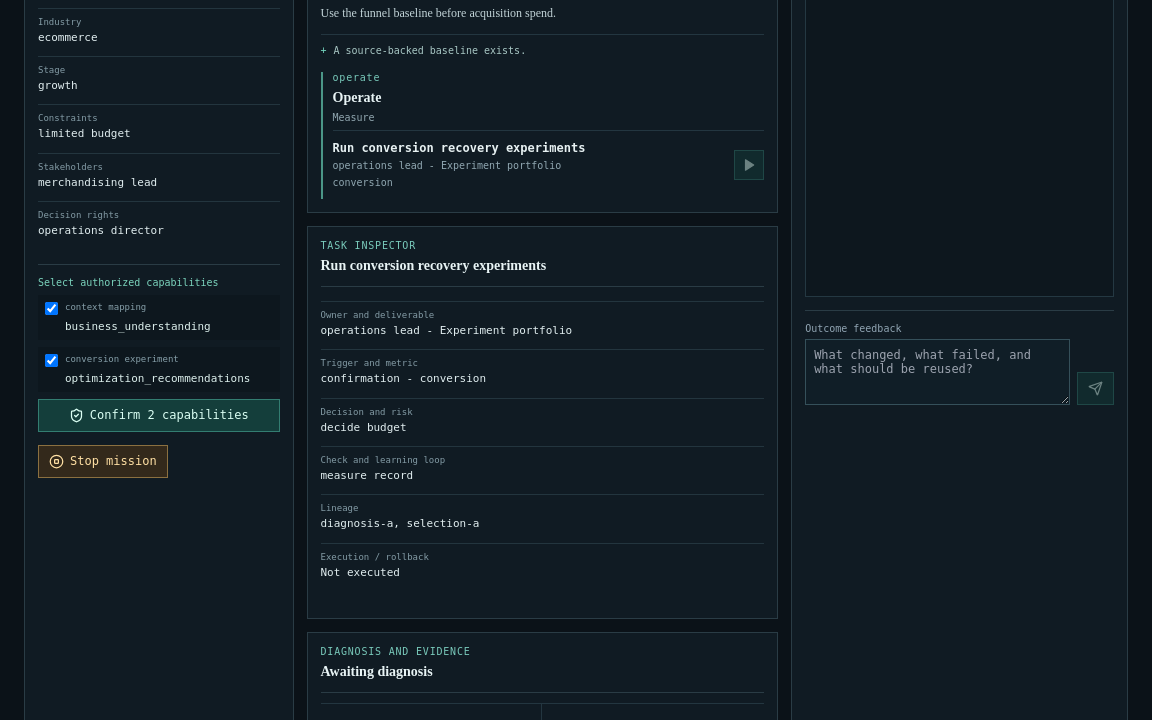
it: BusinessControlCenter › lets the reviewer narrow the authorization set before confirmation
The width and height of the screenshot is (1152, 720).
(page scrolled)
Click the checkbox named "Authorize optimization_recommendations": click(52, 360) [45,354,58,366]
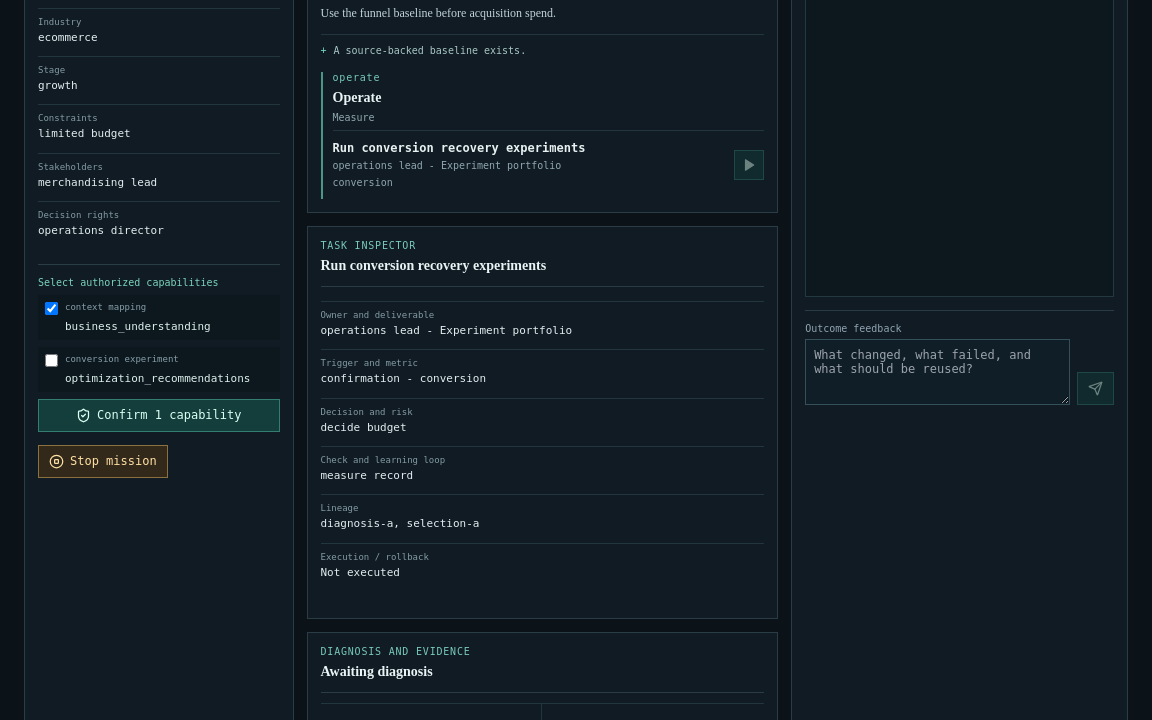
Check: the button "Confirm 1 capability" is shown, box [38,398,280,432]
